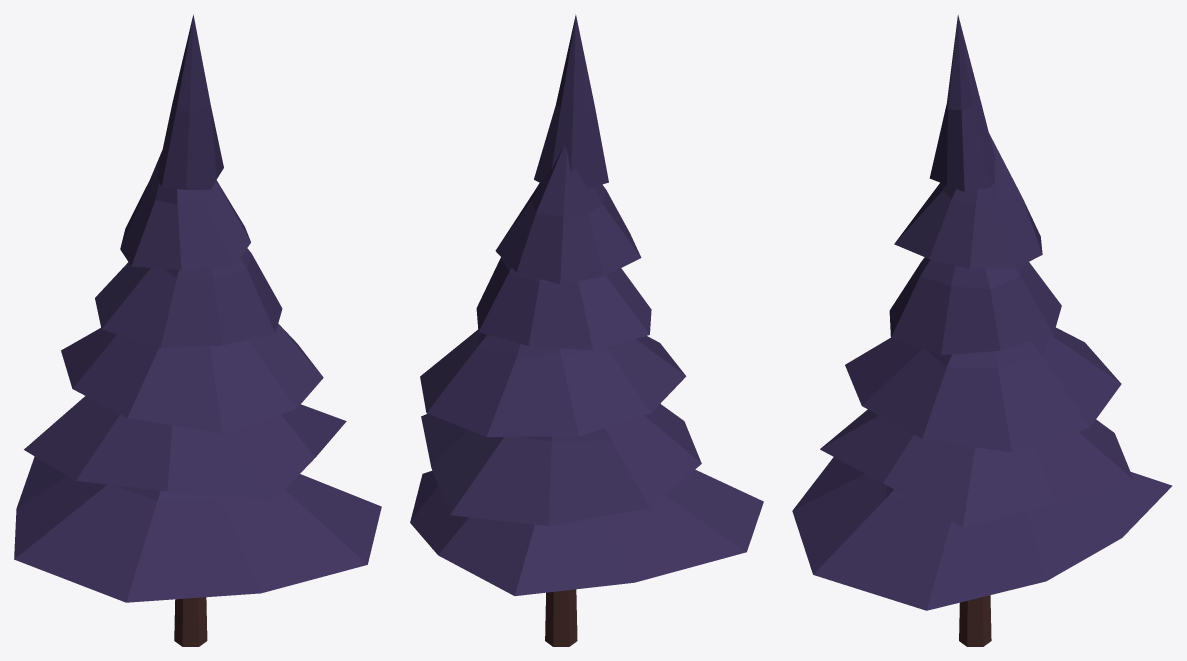
File: tree_pine_0.glb
3 renders of one model, left to right at view 1: azimuth 30°, elevation 25°; view 2: azimuth 150°, elevation 25°; view 3: azimuth 270°, elevation 25°, orthographic. The views are drawn at different scales.
Parts seen in each view (by area): view 1: tree_pine_0; view 2: tree_pine_0; view 3: tree_pine_0.
Boxes of the visible parts, box(x1,y1,x2,y2) form: tree_pine_0: box(14, 14, 381, 646); tree_pine_0: box(410, 14, 763, 646); tree_pine_0: box(792, 15, 1172, 646).
Bounding box in the file's own units: 6.33 × 11 × 6.08.
